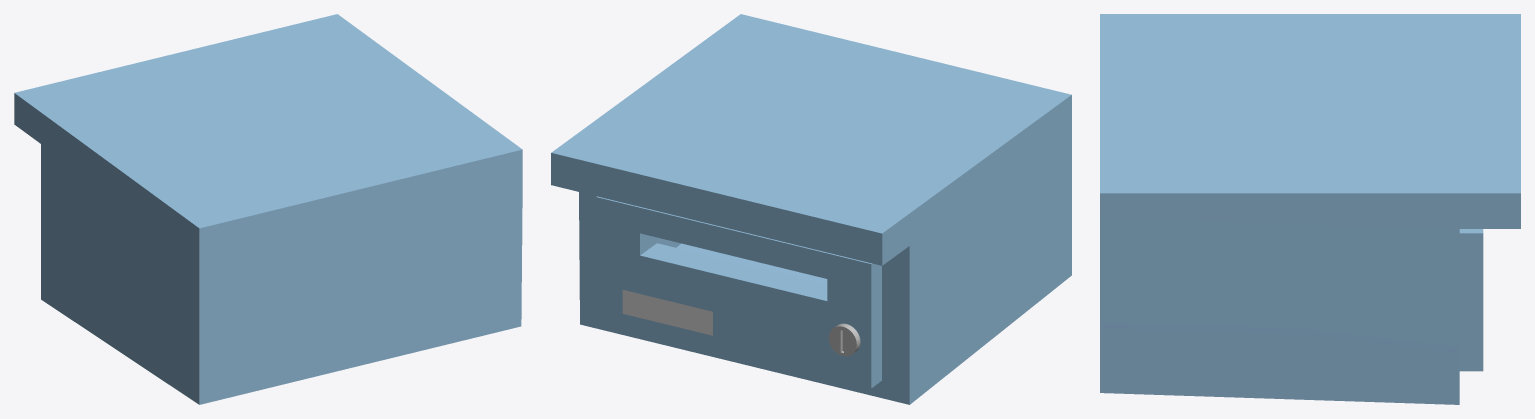
The model's file is Dernière_Boite_a_lettre.fbx.
The picture shows the model from 3 angles, left to right: view 1: azimuth 30°, elevation 25°; view 2: azimuth 150°, elevation 25°; view 3: azimuth 270°, elevation 25°; orthographic projection. The views are drawn at different scales.
Parts seen in each view (by area): view 1: bal.002; view 2: bal.002, bal_etiquettes.010; view 3: bal.002.
Part boxes in pixels (left/top/right/bottom): bal.002: left=14, top=14, right=522, bottom=404; bal.002: left=551, top=14, right=1071, bottom=404; bal_etiquettes.010: left=622, top=290, right=712, bottom=335; bal.002: left=1100, top=14, right=1520, bottom=404.
Bounding box in the file's own units: 73.05 × 40.4 × 72.49.
